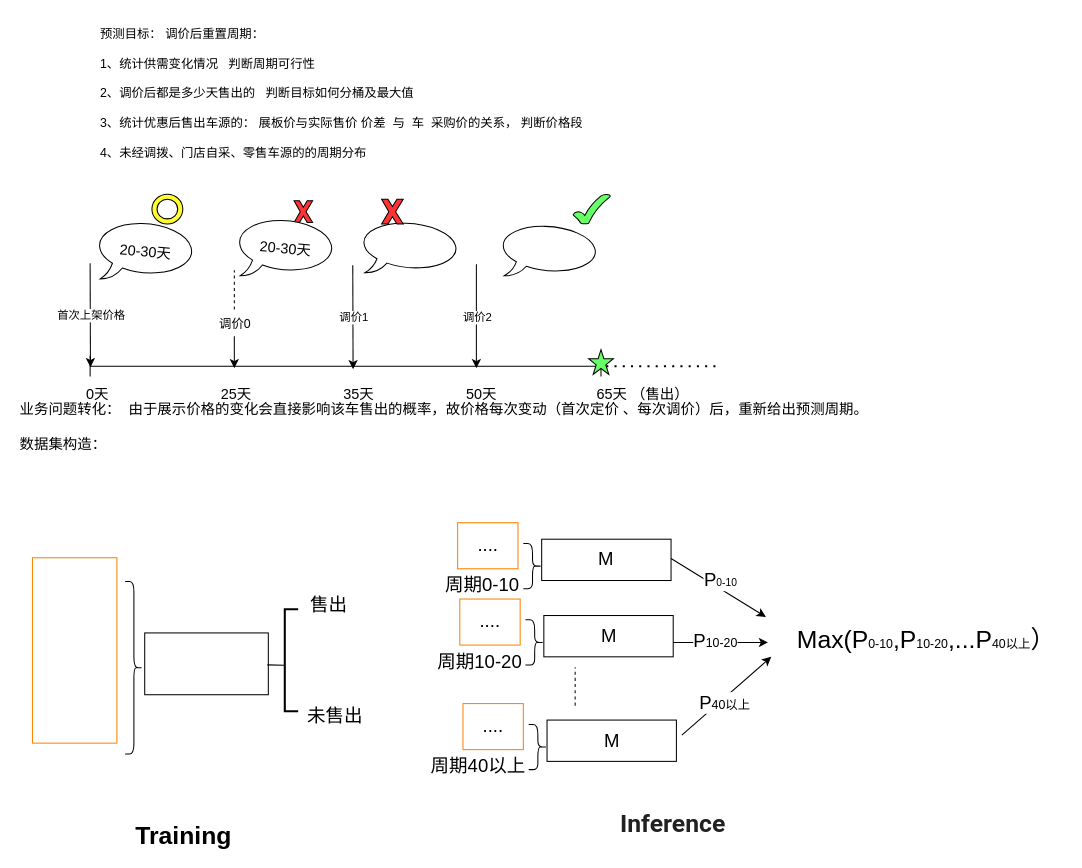
Some shapes in this 1082 by 868 pixel diagram are drawn without their labels. Here are the shapes that lost their labels. From the top down, the centre of each, then its label:
At (x=409, y=248): "0-10天".
At (x=549, y=251): "10-20天".
At (x=74, y=650): "车辆特征、 竞争力 特征、 与市场 互动特征 .... 周期时间段".
At (x=206, y=663): "二分类模型M".
